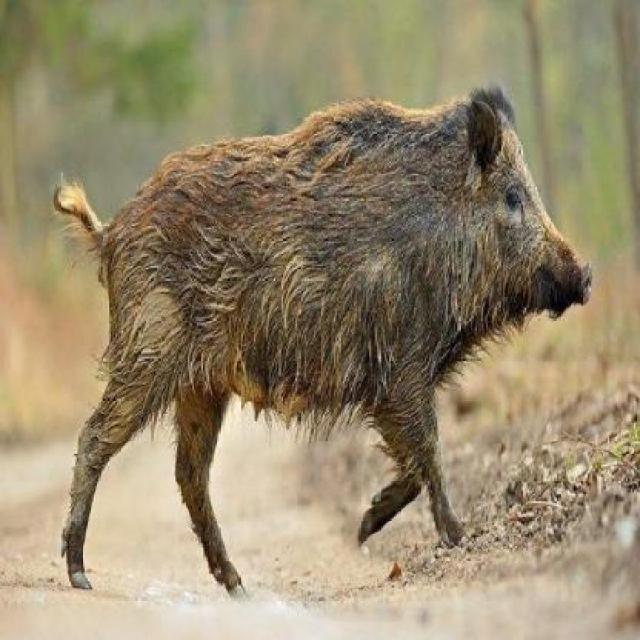wildboar: (52, 79, 602, 593)
